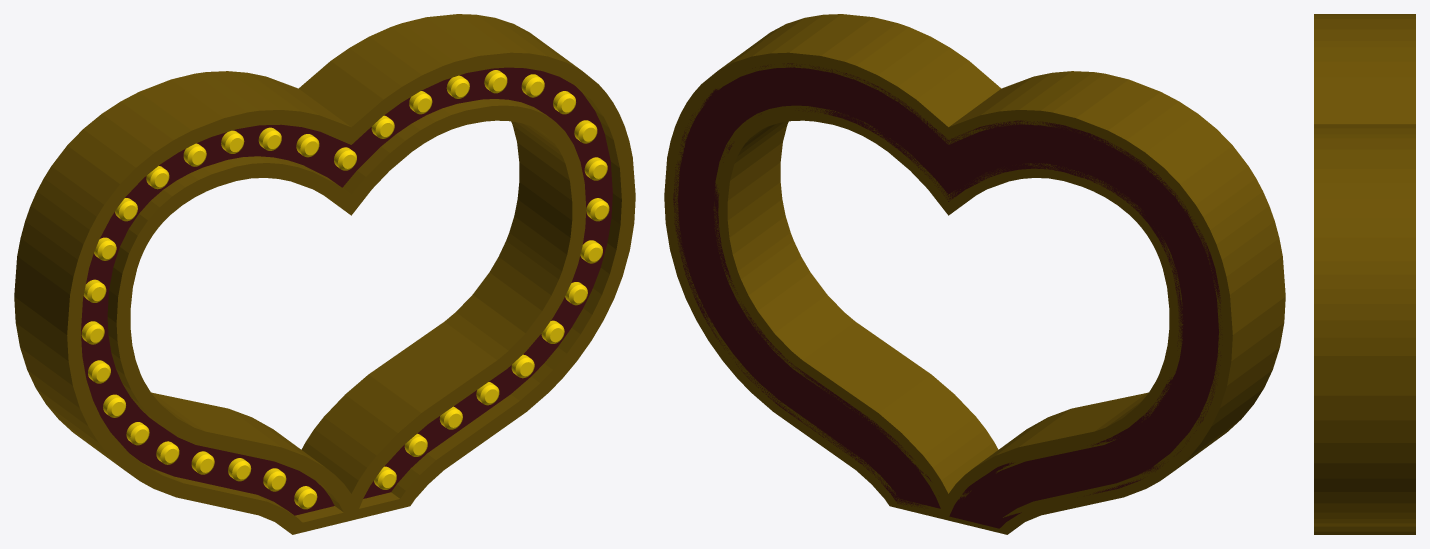
File: heart_waku.glb
3 views of the same model, side by side, from view 1: azimuth 30°, elevation 25°; view 2: azimuth 150°, elevation 25°; view 3: azimuth 270°, elevation 25° (orthographic). The views are drawn at different scales.
Visible parts, largest first — view 1: Curve; view 2: Curve; view 3: Curve.
Boxes of the visible parts, box(x1,y1,x2,y2) form: Curve: box(14, 14, 635, 534); Curve: box(664, 14, 1285, 534); Curve: box(1314, 14, 1415, 534).
Bounding box in the file's own units: 1.32 × 0.9595 × 0.2123.
